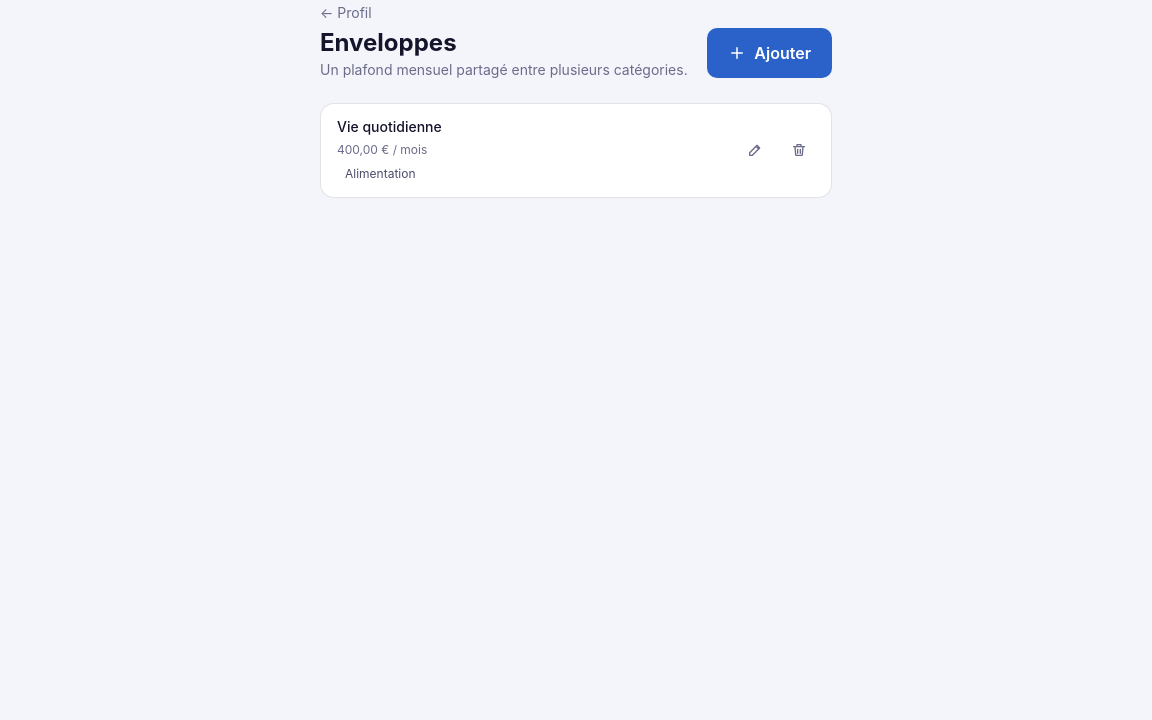
Test: EnvelopesPage — édition › « Annuler » referme la modale
This screenshot has width=1152, height=720.
Click the button named "Modifier Vie quotidienne" at {"x": 755, "y": 150}, box top-left (739, 134), bottom-right (771, 166)
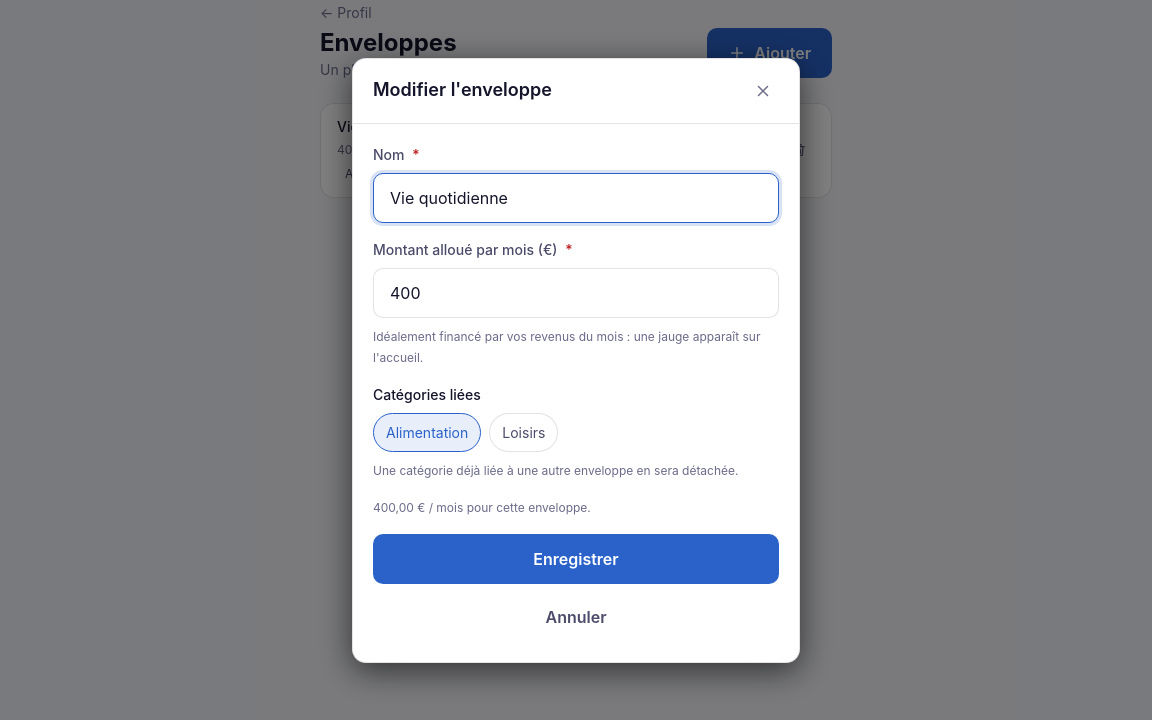
Click the button "Annuler" at {"x": 576, "y": 616}, box top-left (373, 592), bottom-right (779, 642)
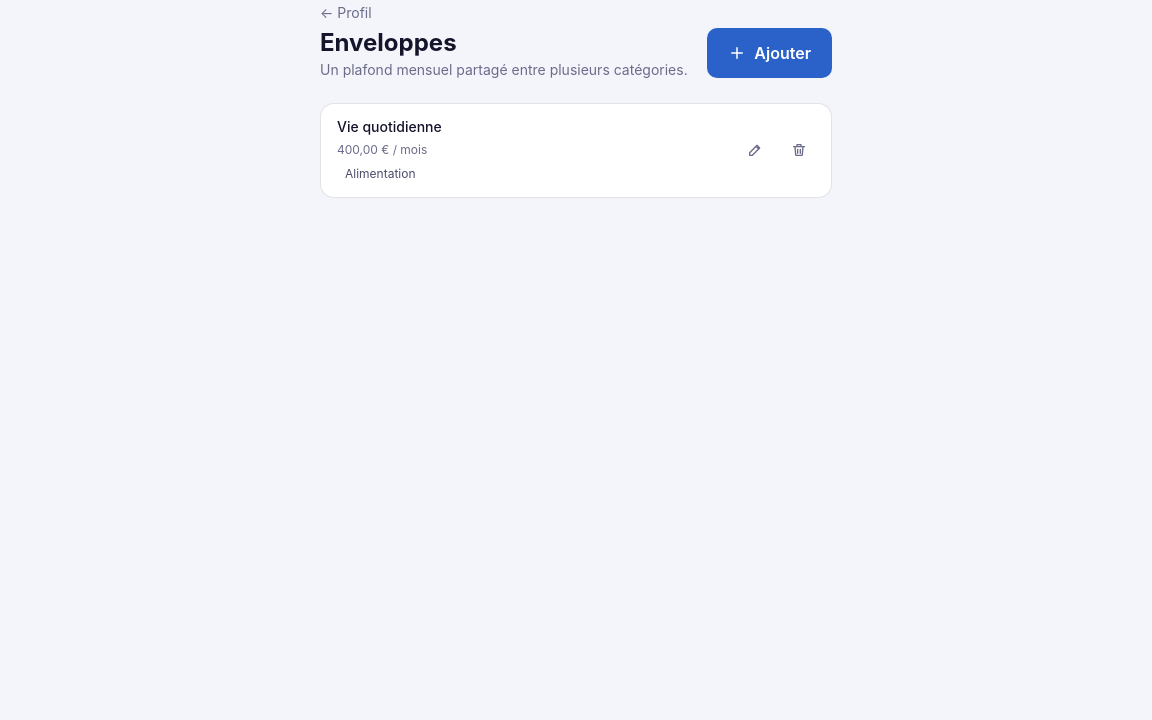
Check: the dialog is gone
